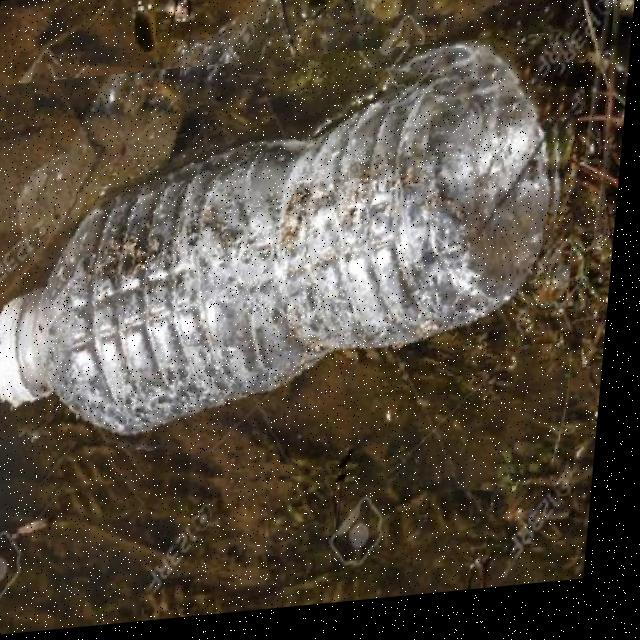litter: (0, 41, 580, 524)
